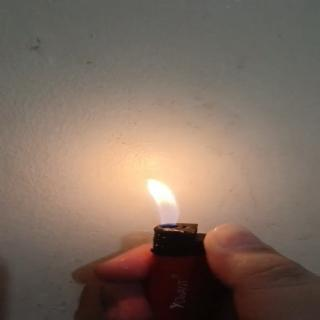fire: (128, 173, 197, 232)
